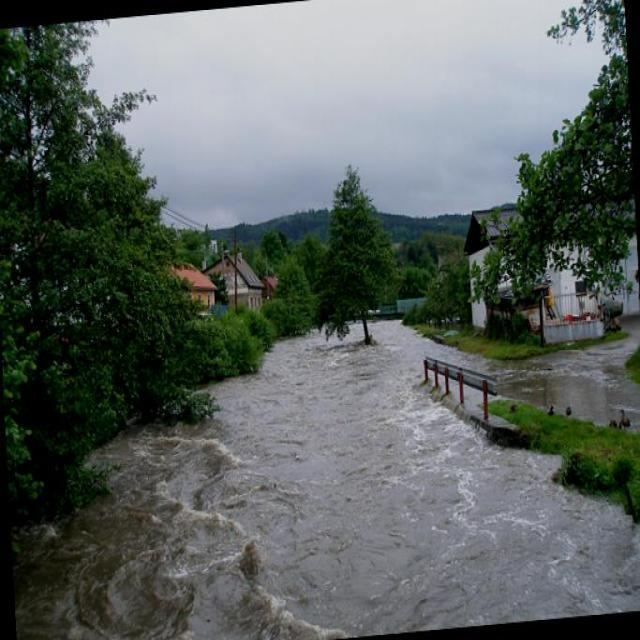flood: (8, 293, 639, 639)
